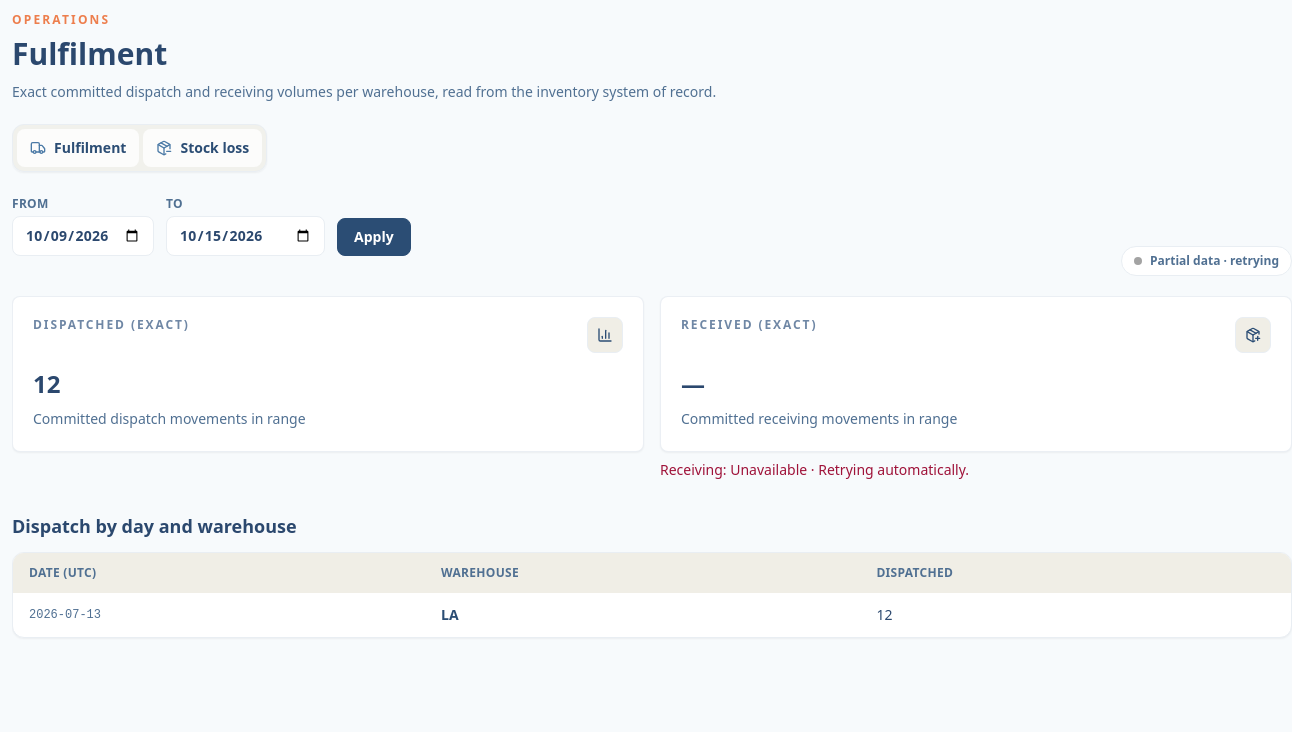
Test: operations overview › loads fulfilment resources independently and clears old totals and tables on range change
Expected: the heading "Dispatch by day and warehouse" is shown, [12,514,297,538]
Expected: the message "Receiving: Unavailable · Retrying automatically." is shown, [660,460,969,479]
Type "2026-07-01" into the date field labelled "From" at [83, 236], box [12,216,154,256]
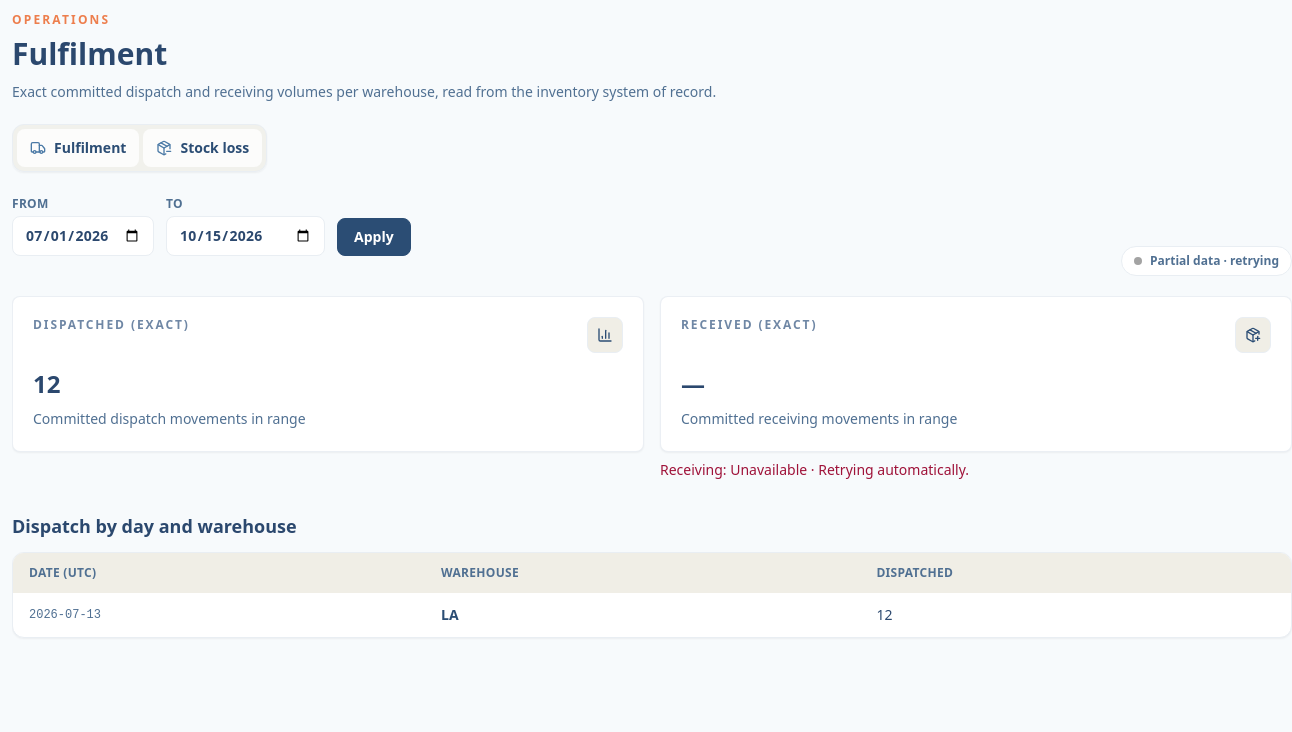
Type "2026-07-07" into the date field labelled "To" at [246, 236], box [166,216,325,256]
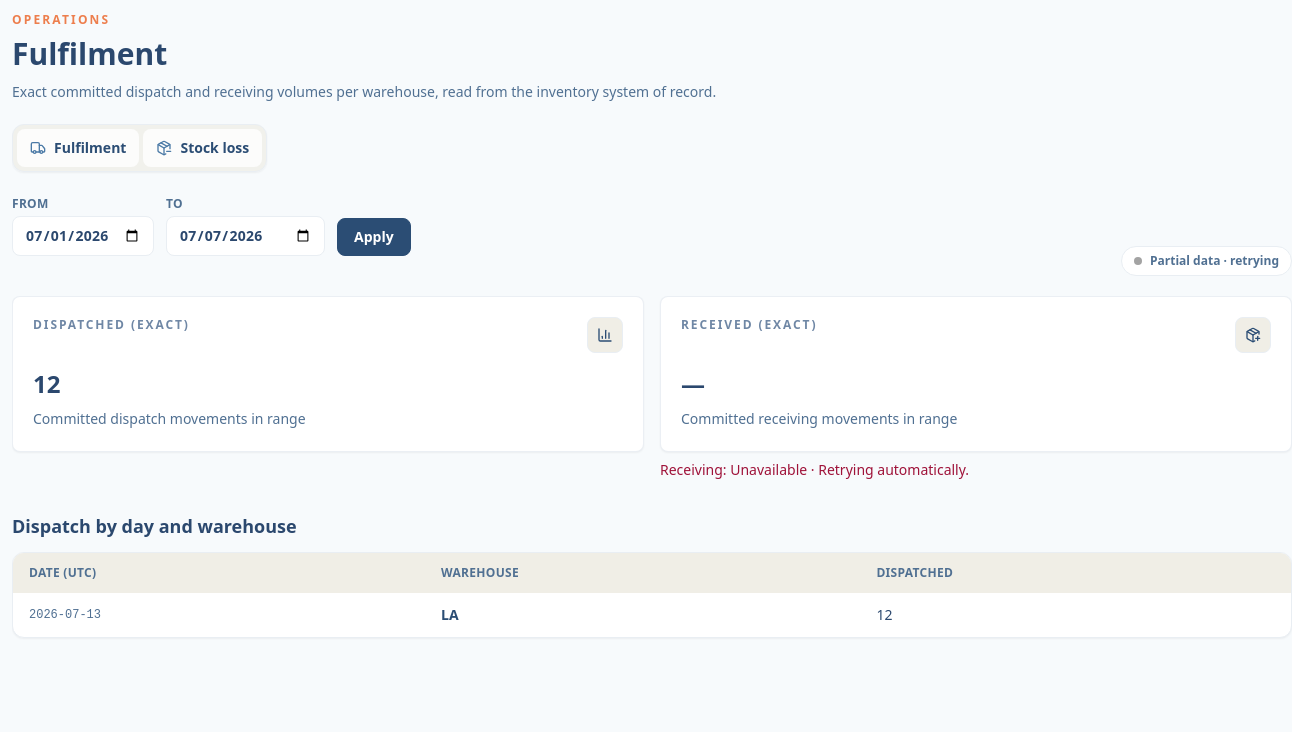
Click the button "Apply" at [374, 237], box [337,218,411,256]
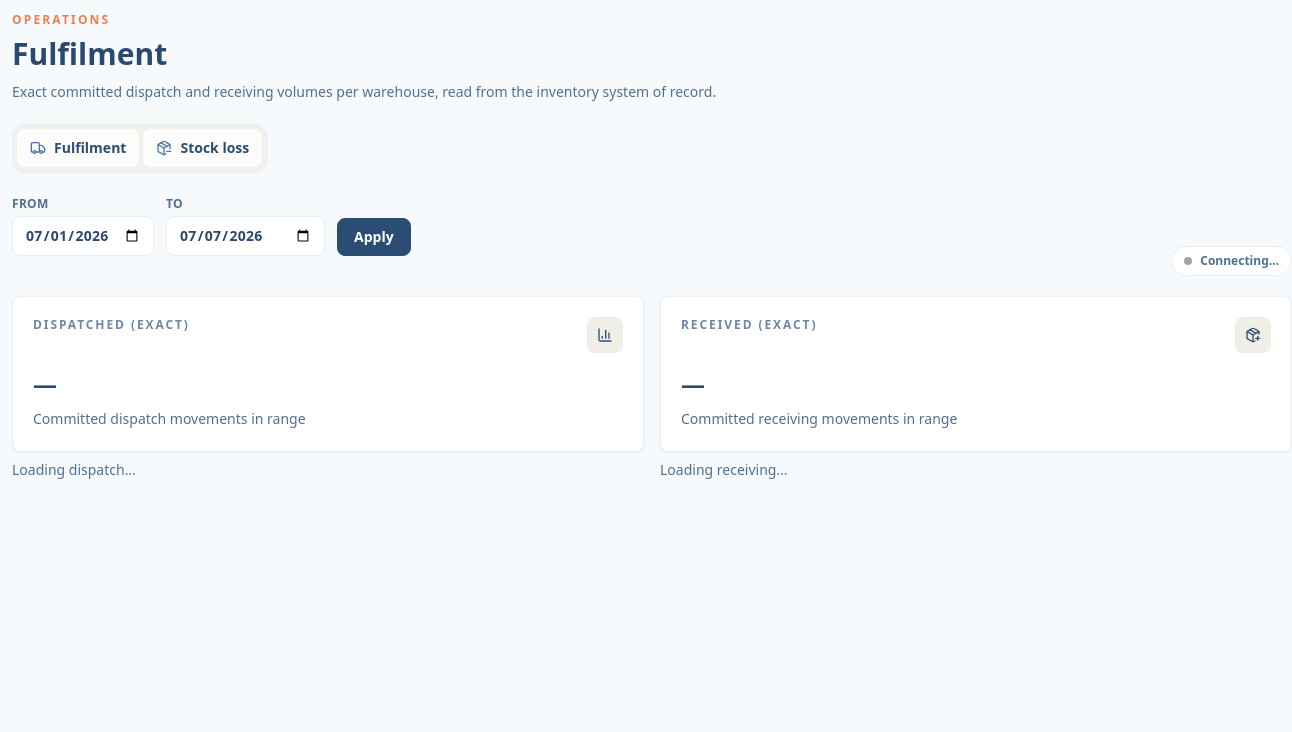
Expected: the text "—" is shown 2 times, [33,367,57,400]; [681,367,705,400]
Result: the heading "Dispatch by day and warehouse" is gone
Result: the message reads "Connecting…" at [1200,252,1279,269]
